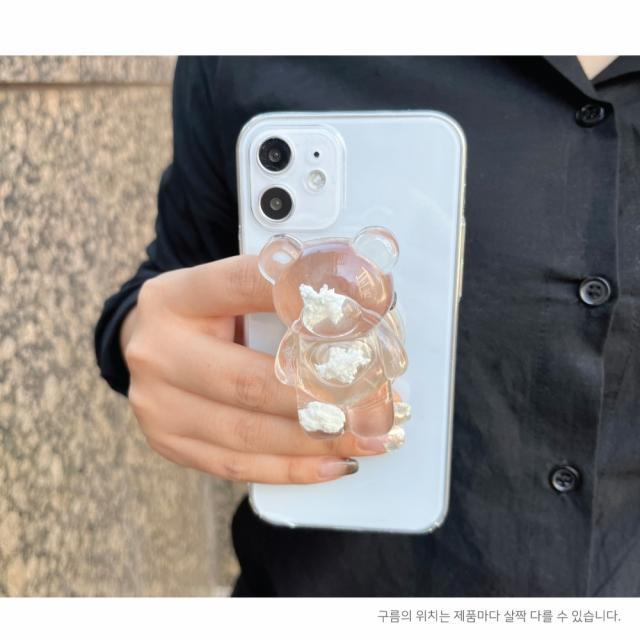phone: (236, 111, 469, 534)
